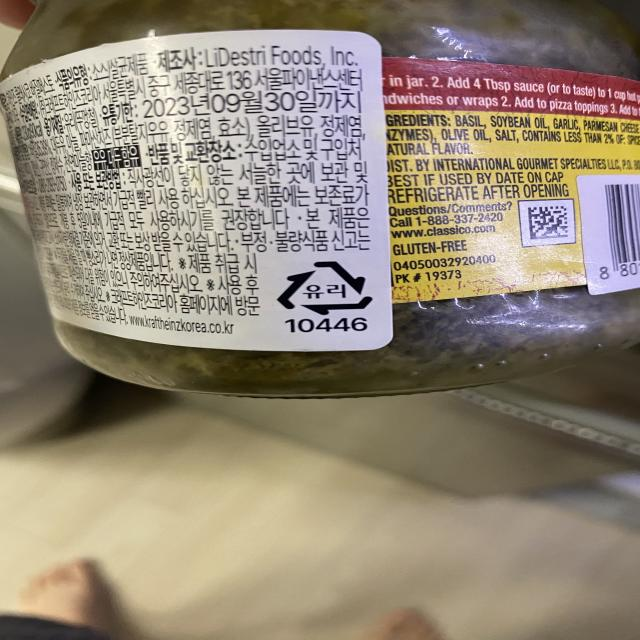Glass: (272, 258, 375, 316)
